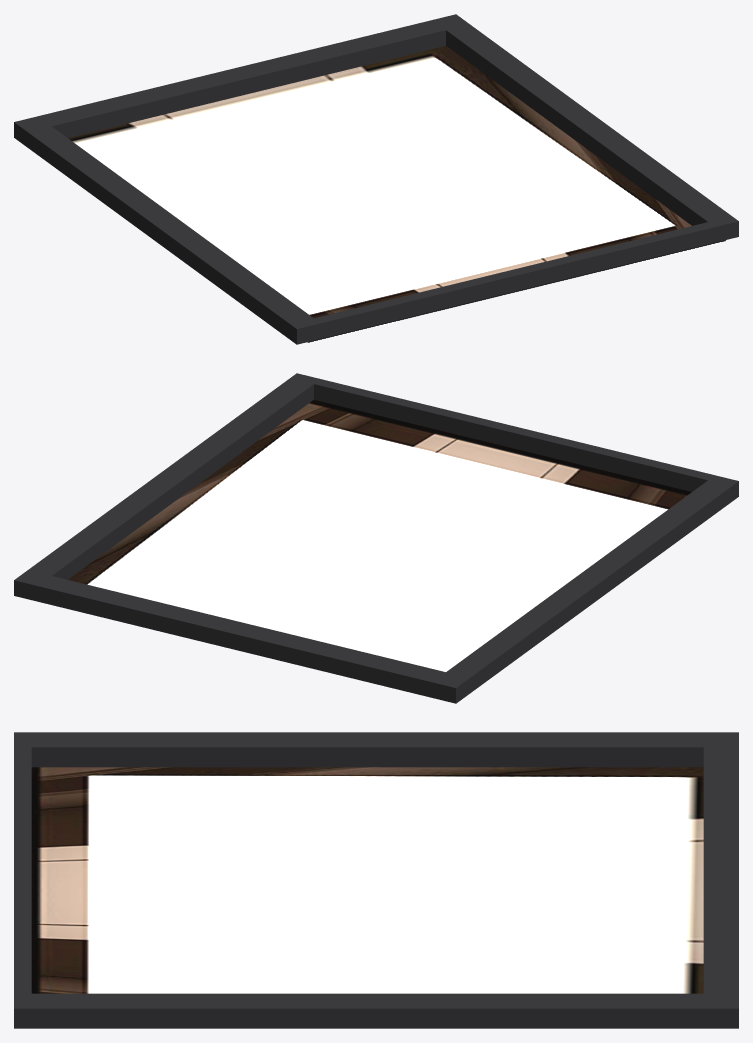
The model's file is ceiling_DD303.glb.
3 views of the same model, one above another, from view 1: azimuth 30°, elevation 25°; view 2: azimuth 150°, elevation 25°; view 3: azimuth 270°, elevation 25° (orthographic). The views are drawn at different scales.
Parts seen in each view (by area): view 1: Ceiling_Shell, Ceiling_Mirror, Ceiling_Panel_R, Ceiling_Panel_L; view 2: Ceiling_Shell, Ceiling_Mirror, Ceiling_Panel_R, Ceiling_Panel_L; view 3: Ceiling_Shell, Ceiling_Mirror, Ceiling_Panel_L, Ceiling_Panel_R.
Part boxes in pixels (x1,y1,x2,y2): Ceiling_Shell: (14, 14, 738, 344); Ceiling_Mirror: (173, 76, 592, 310); Ceiling_Panel_R: (322, 46, 726, 273); Ceiling_Panel_L: (68, 112, 442, 343); Ceiling_Shell: (14, 373, 738, 703); Ceiling_Mirror: (192, 430, 586, 646); Ceiling_Panel_R: (68, 400, 437, 609); Ceiling_Panel_L: (341, 466, 691, 671); Ceiling_Shell: (14, 732, 738, 1028); Ceiling_Mirror: (31, 845, 703, 939); Ceiling_Panel_L: (31, 767, 703, 845); Ceiling_Panel_R: (31, 939, 703, 993).
Bounding box in the file's own units: 1.48 × 0.056 × 1.64.
3 materials, 1 textured.
